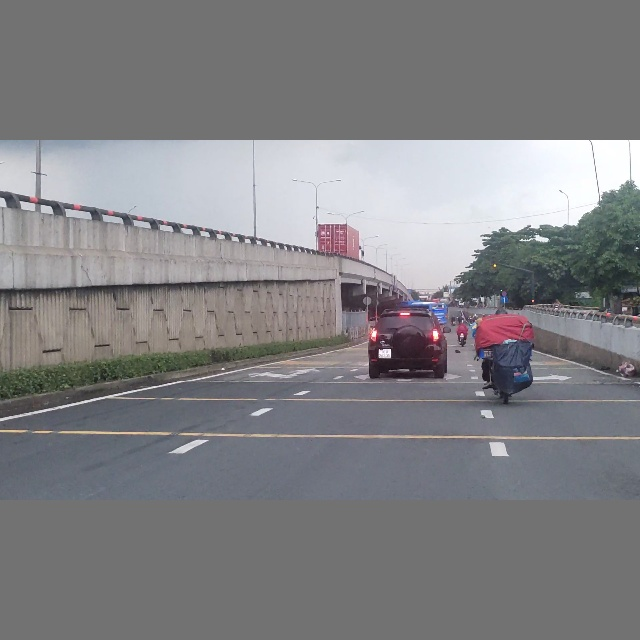I.407a: (501, 296, 508, 303)
